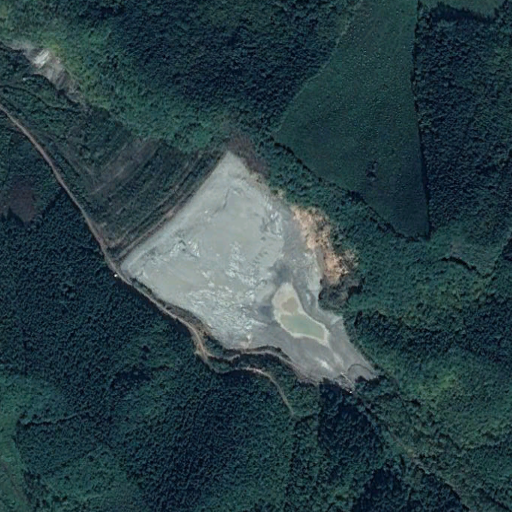tp: (117, 155, 381, 388)
